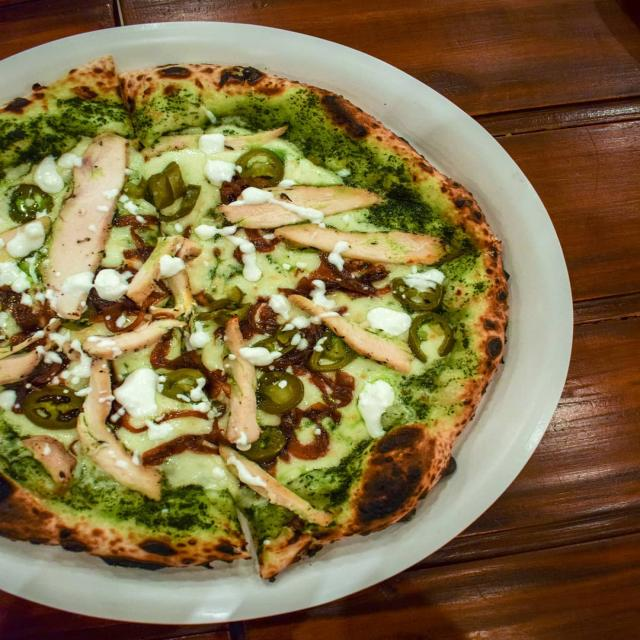pizza: (0, 55, 508, 582)
